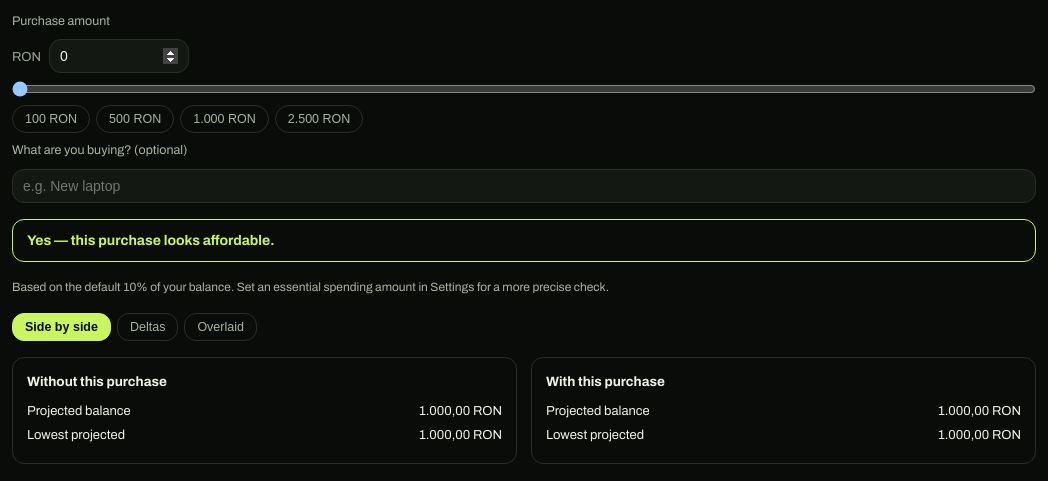
it: SimulatorPanel › clicking a preset chip sets the amount and updates the verdict
Click the button "2.500 RON" at (319, 119), box [275,105,363,133]
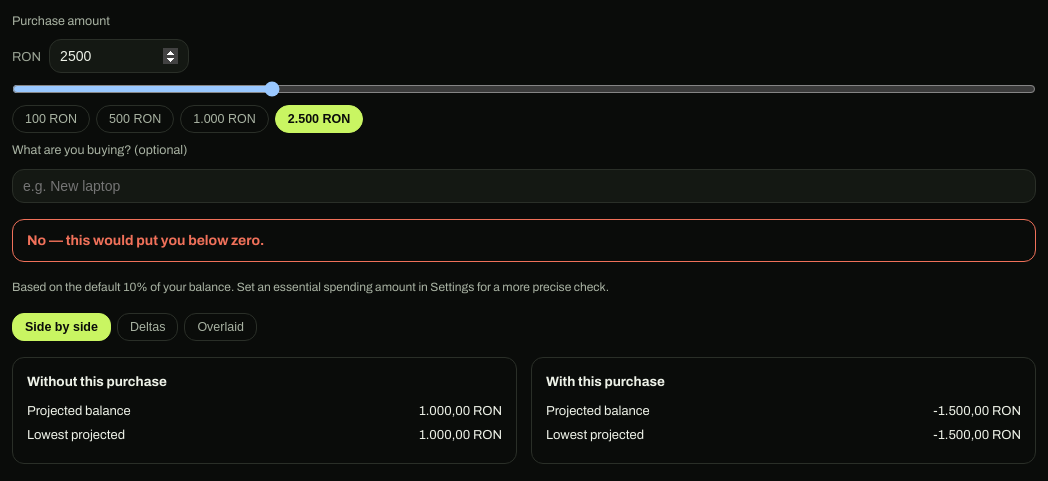
Result: the number field labelled "Purchase amount" holds "2500" at [49,39,189,73]
Result: the text "No — this would put you below zero." is shown at [12,219,1036,262]
